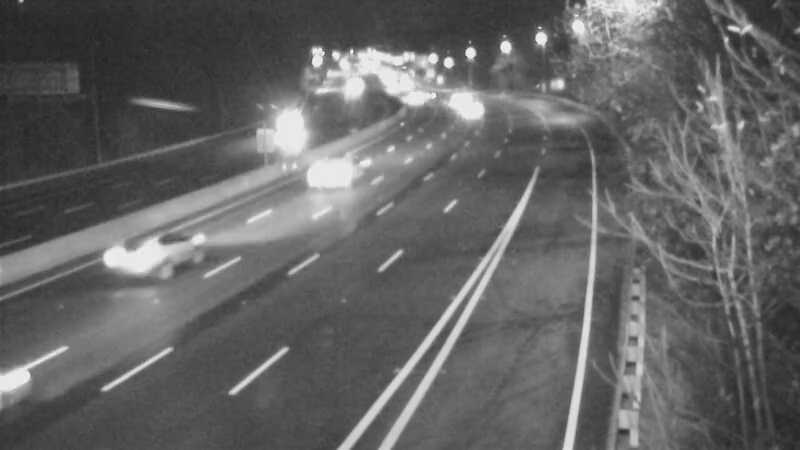vehicle: (291, 133, 371, 213), (96, 219, 176, 299), (386, 76, 436, 126), (428, 74, 478, 124), (442, 88, 492, 138), (267, 100, 317, 150), (326, 61, 376, 111)
